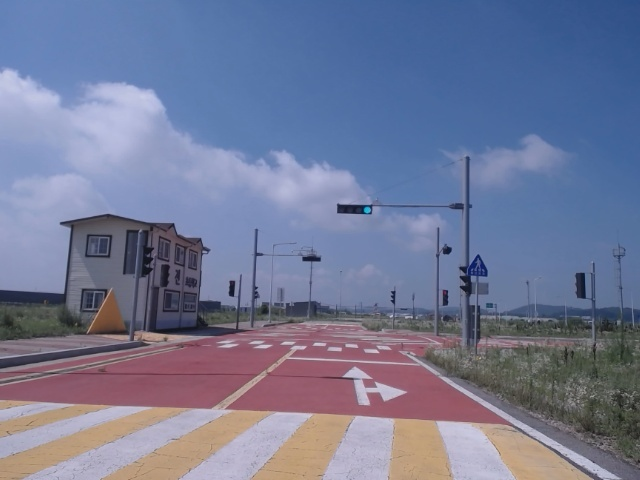straight_green_4: (337, 206, 372, 214)
